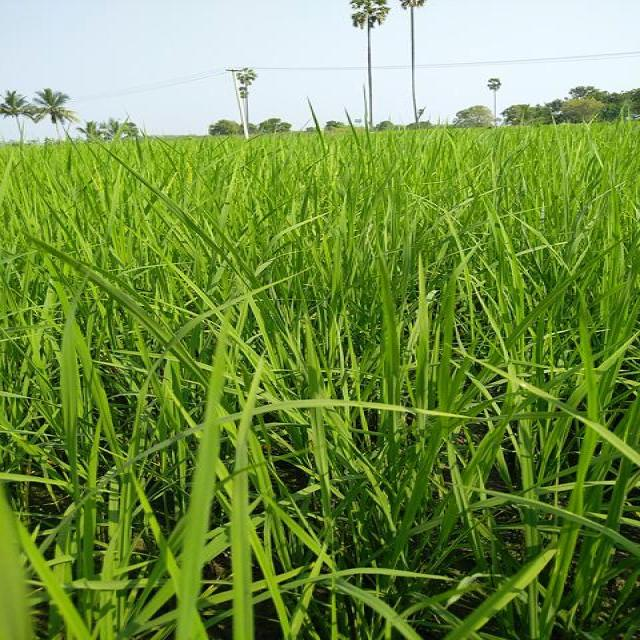Rice: (101, 406, 488, 475), (448, 538, 640, 640), (179, 309, 238, 639), (557, 320, 598, 538), (48, 296, 85, 522), (301, 316, 332, 550), (365, 257, 406, 400), (26, 572, 251, 594), (113, 473, 139, 640), (434, 274, 455, 407), (416, 264, 428, 396)
